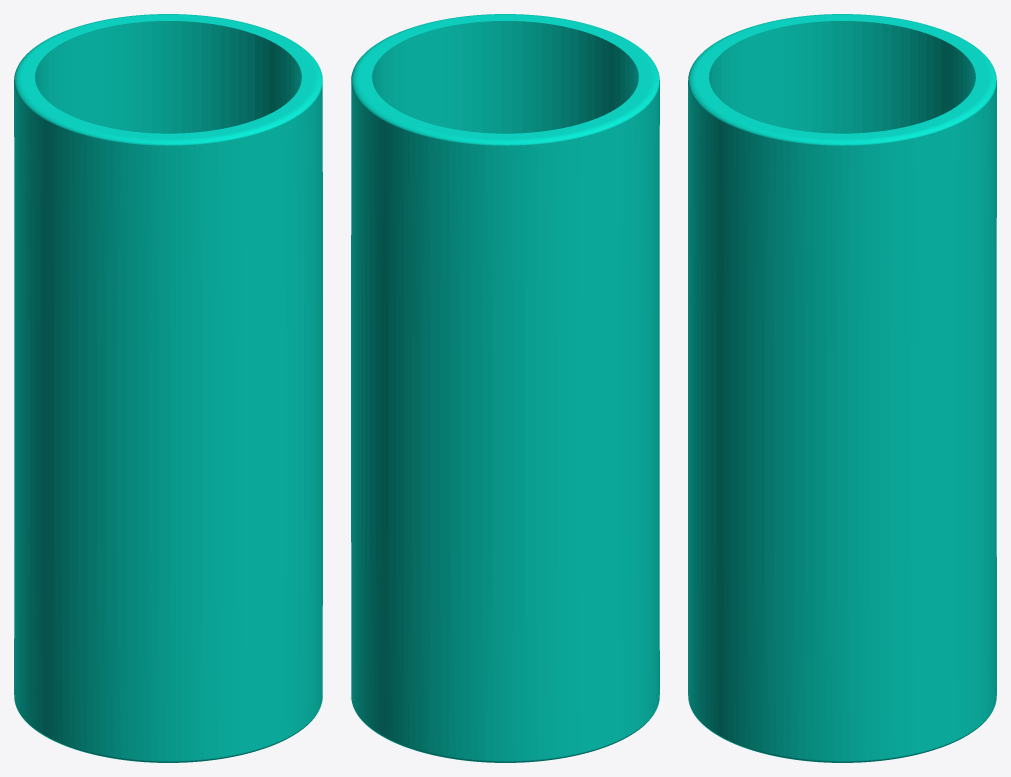
File: habillage_produit_04.glb
3 views of the same model, side by side, from view 1: azimuth 30°, elevation 25°; view 2: azimuth 150°, elevation 25°; view 3: azimuth 270°, elevation 25° (orthographic).
Parts seen in each view (by area): view 1: bouteille prototype V3 habillage; view 2: bouteille prototype V3 habillage; view 3: bouteille prototype V3 habillage.
Boxes of the visible parts, x1,y1,x2,y2 form: bouteille prototype V3 habillage: (14,14,322,762); bouteille prototype V3 habillage: (351,14,659,762); bouteille prototype V3 habillage: (688,14,996,762).
Bounding box in the file's own units: 80.51 × 179 × 80.51.
